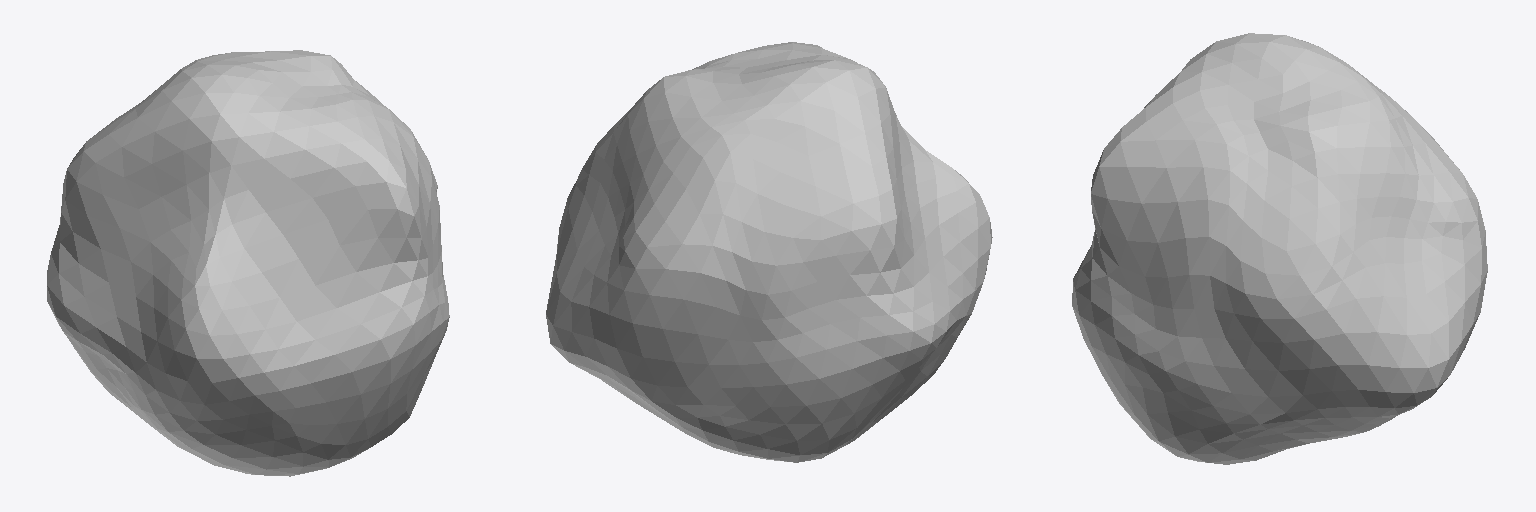
The model's file is góry lodowe4.obj.
3 views of the same model, side by side, from view 1: azimuth 30°, elevation 25°; view 2: azimuth 150°, elevation 25°; view 3: azimuth 270°, elevation 25° (orthographic).
Visible parts, largest first — view 1: Icosphere; view 2: Icosphere; view 3: Icosphere.
Boxes of the visible parts, x1,y1,x2,y2 form: Icosphere: [47, 50, 449, 476]; Icosphere: [546, 42, 992, 462]; Icosphere: [1072, 33, 1487, 464].
Size of the model in its own units: 2.04 by 2.09 by 2.02.